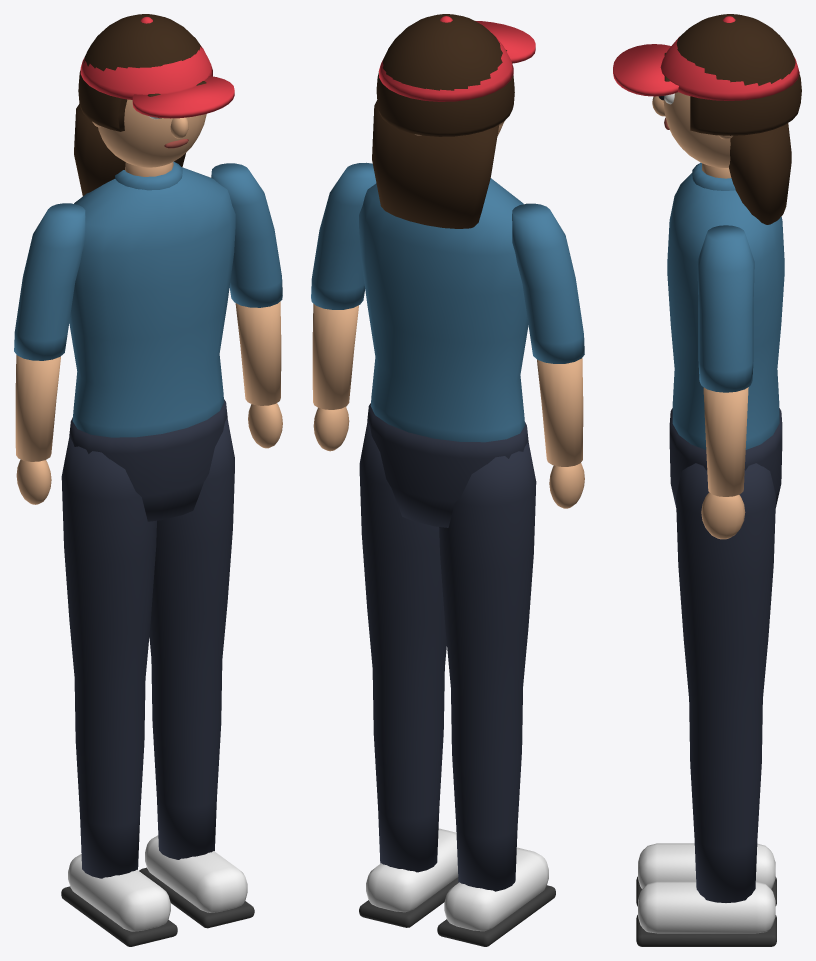
Rendered from customer.glb.
3 renders of one model, left to right at view 1: azimuth 30°, elevation 25°; view 2: azimuth 150°, elevation 25°; view 3: azimuth 270°, elevation 25°, orthographic.
Visible parts, largest first — view 1: Body, LegR, LegL, ArmR, ArmL, HairLong, Cap; view 2: Body, LegR, LegL, HairLong, ArmR, ArmL, Cap; view 3: LegL, Body, HairLong, ArmL, Cap, LegR.
Part boxes in pixels (bbox=[...]): Body: bbox=[69, 81, 235, 521]; LegR: bbox=[61, 438, 177, 946]; LegL: bbox=[139, 418, 254, 928]; ArmR: bbox=[14, 203, 85, 504]; ArmL: bbox=[211, 163, 282, 448]; HairLong: bbox=[74, 14, 201, 195]; Cap: bbox=[80, 17, 234, 118]; Body: bbox=[359, 50, 528, 527]; LegR: bbox=[437, 442, 555, 946]; LegL: bbox=[359, 423, 458, 927]; HairLong: bbox=[372, 14, 514, 228]; ArmR: bbox=[512, 203, 584, 508]; ArmL: bbox=[311, 162, 376, 451]; Cap: bbox=[378, 16, 535, 101]; LegL: bbox=[636, 463, 776, 946]; Body: bbox=[652, 52, 784, 507]; HairLong: bbox=[676, 14, 801, 224]; ArmL: bbox=[697, 225, 754, 539]; Cap: bbox=[613, 16, 799, 100]; LegR: bbox=[636, 843, 776, 906].
Bounding box in the file's own units: 0.56 × 1.8 × 0.3428.
